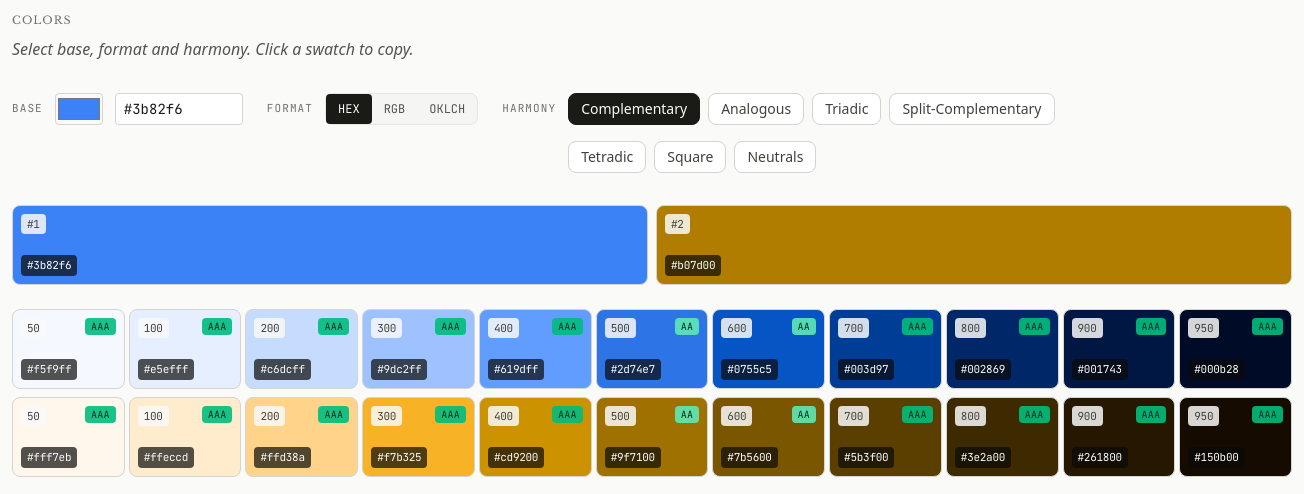
it: ColorsSection › should keep the last valid color when the hex field receives invalid input
Replace the text in the field named "Base color hex" with "zzz": (179, 108) [115,92,243,124]
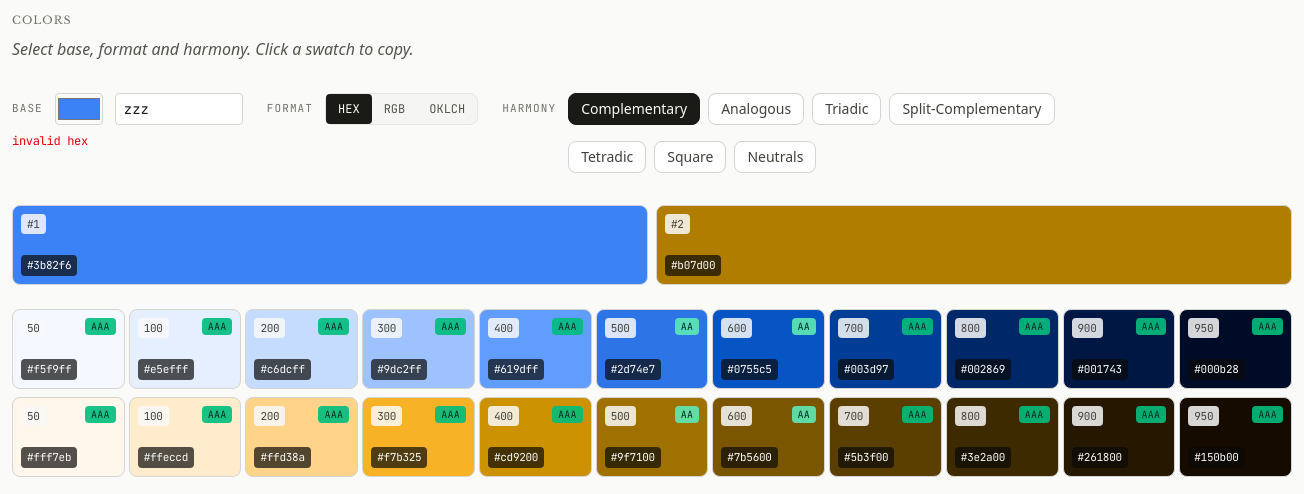
Expected: the text "invalid hex" is shown, [12,132,88,148]
